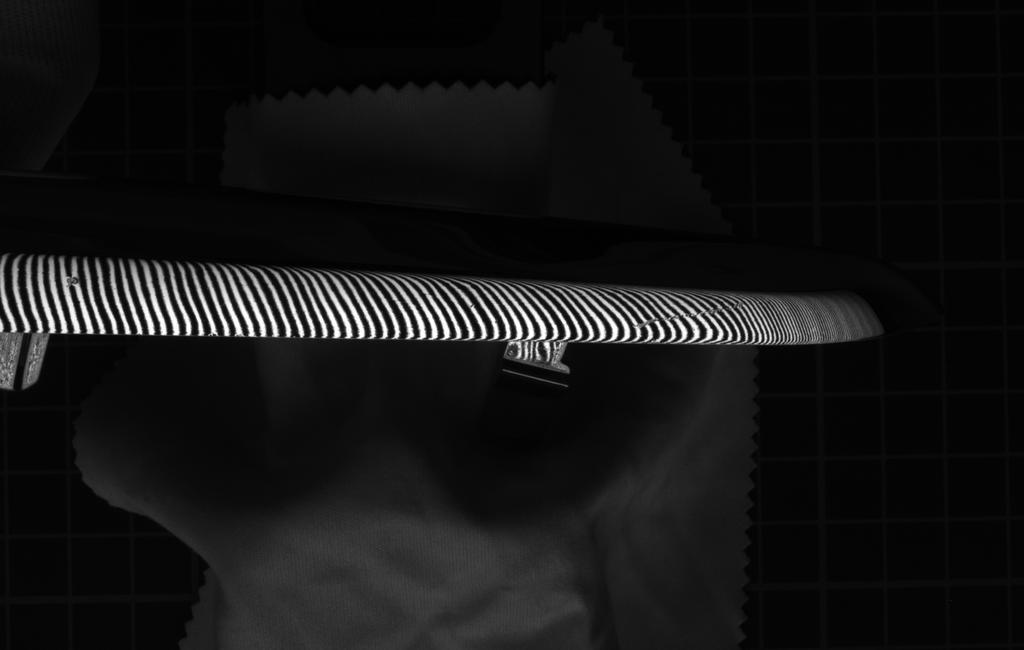Pierced: (58, 271, 87, 290)
Scratch: (624, 297, 755, 332)
